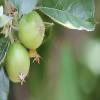Apple leaf: (39, 1, 100, 34)
